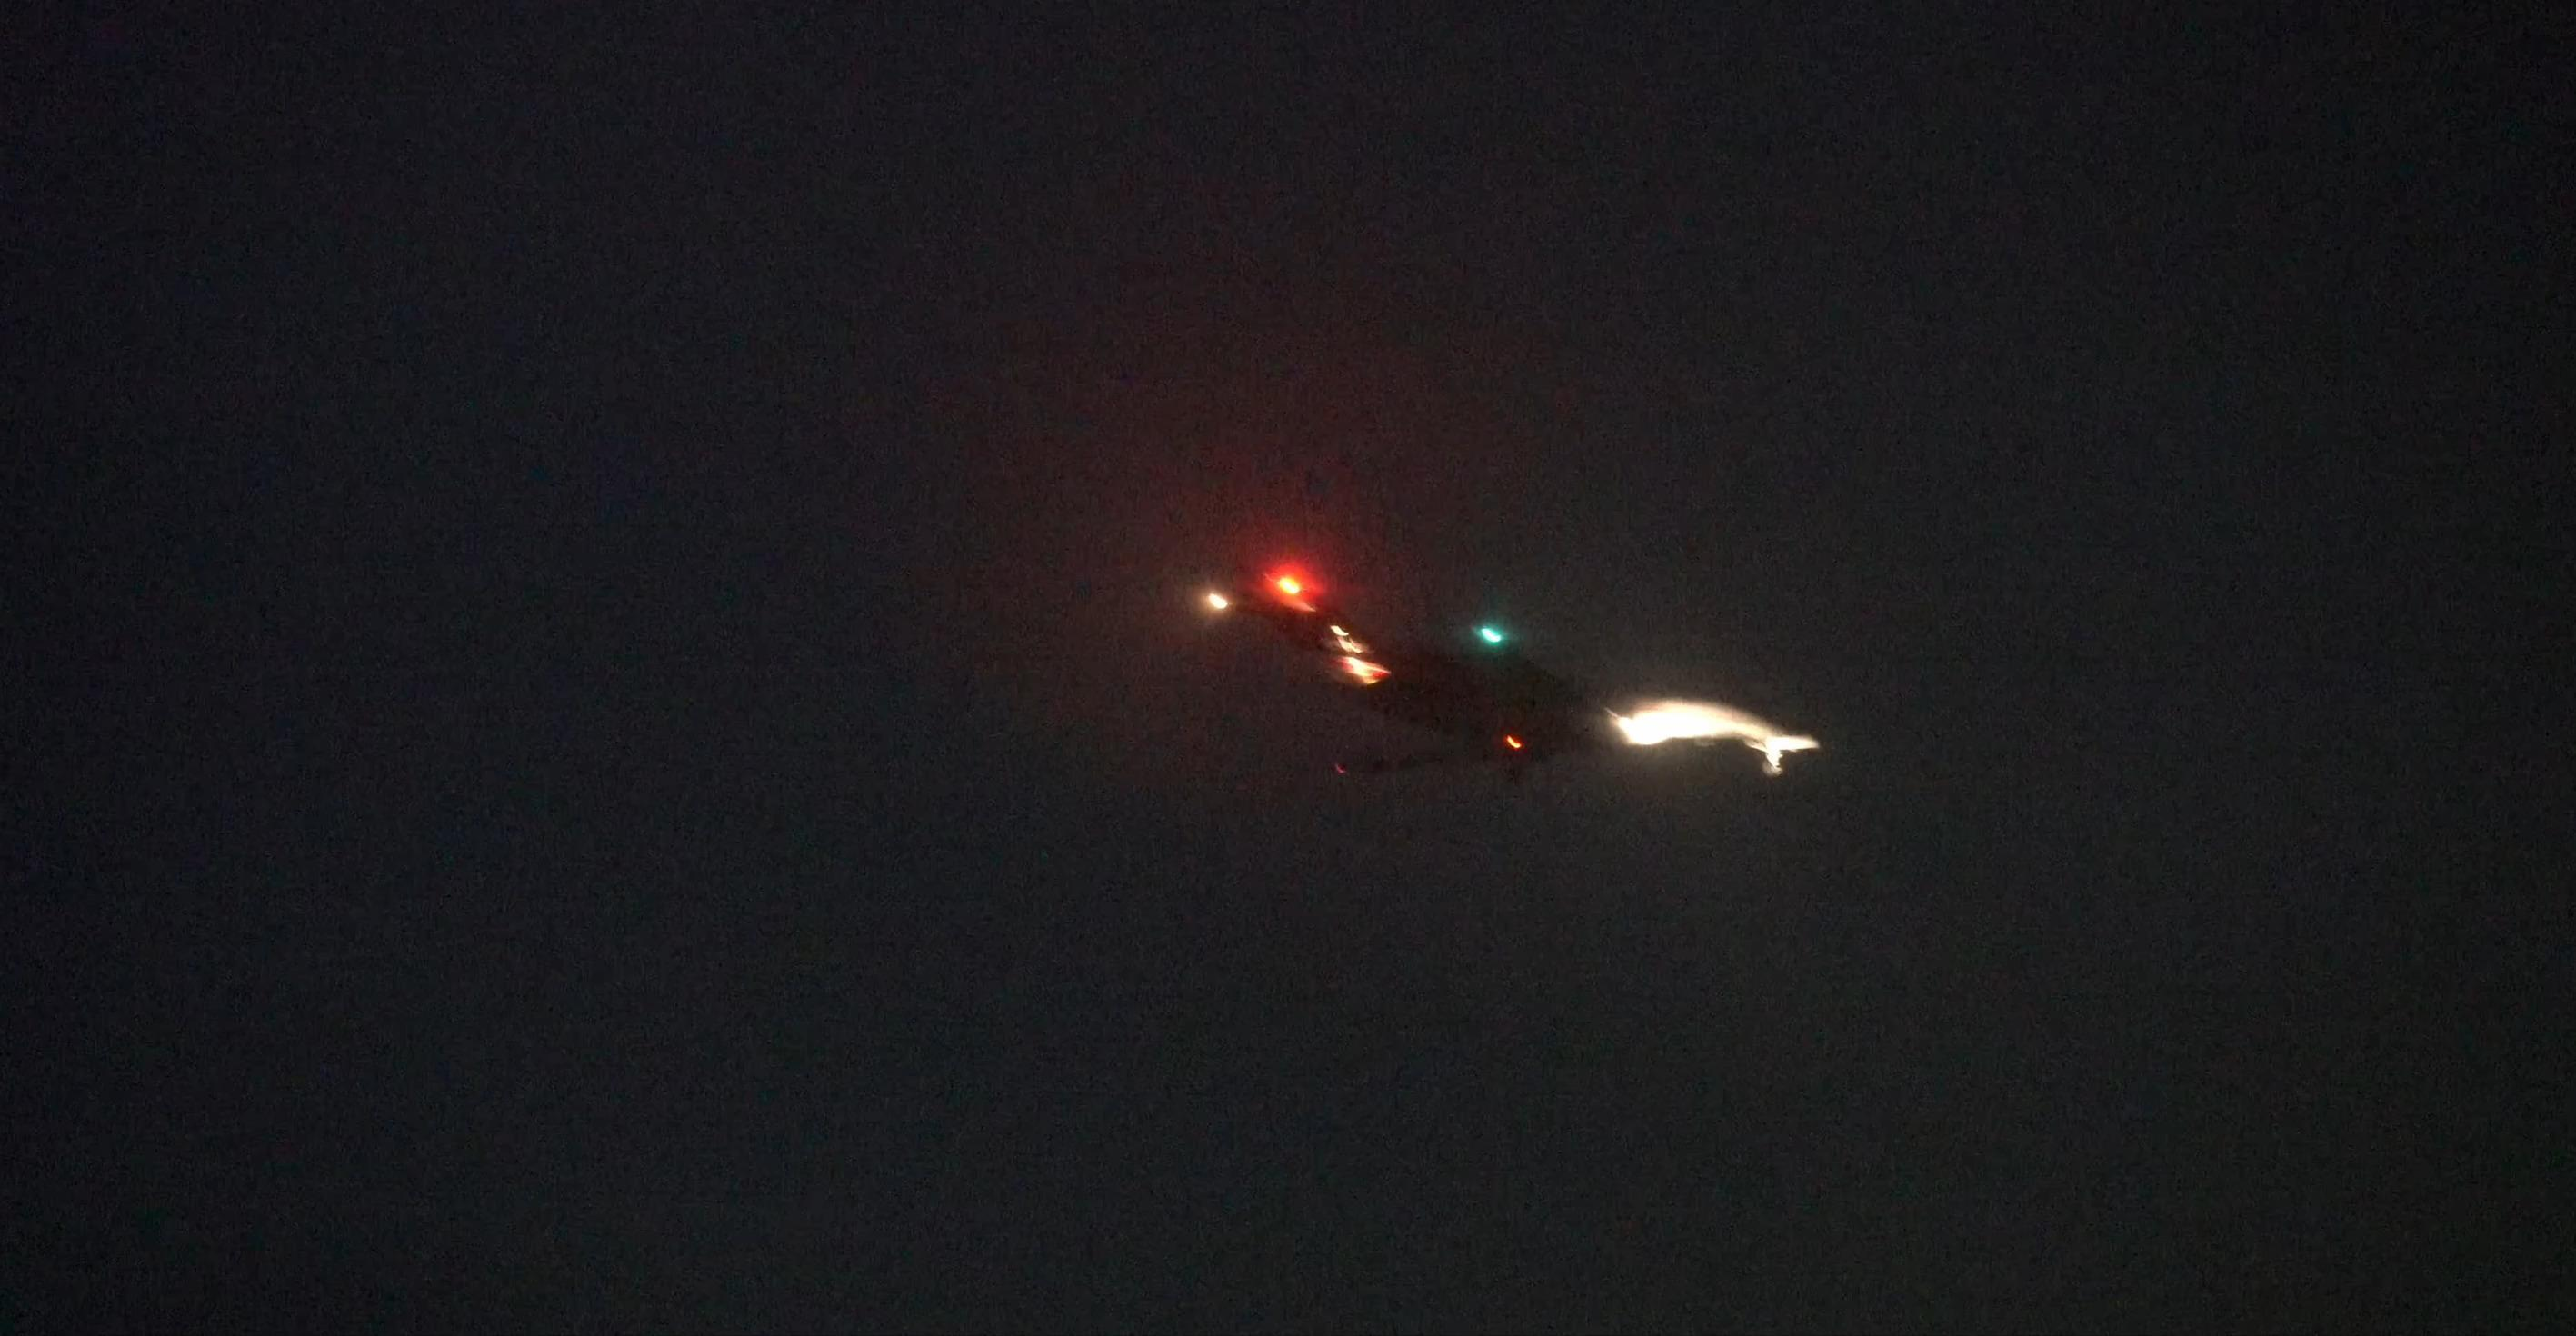Plane: (1225, 634, 1768, 803)
